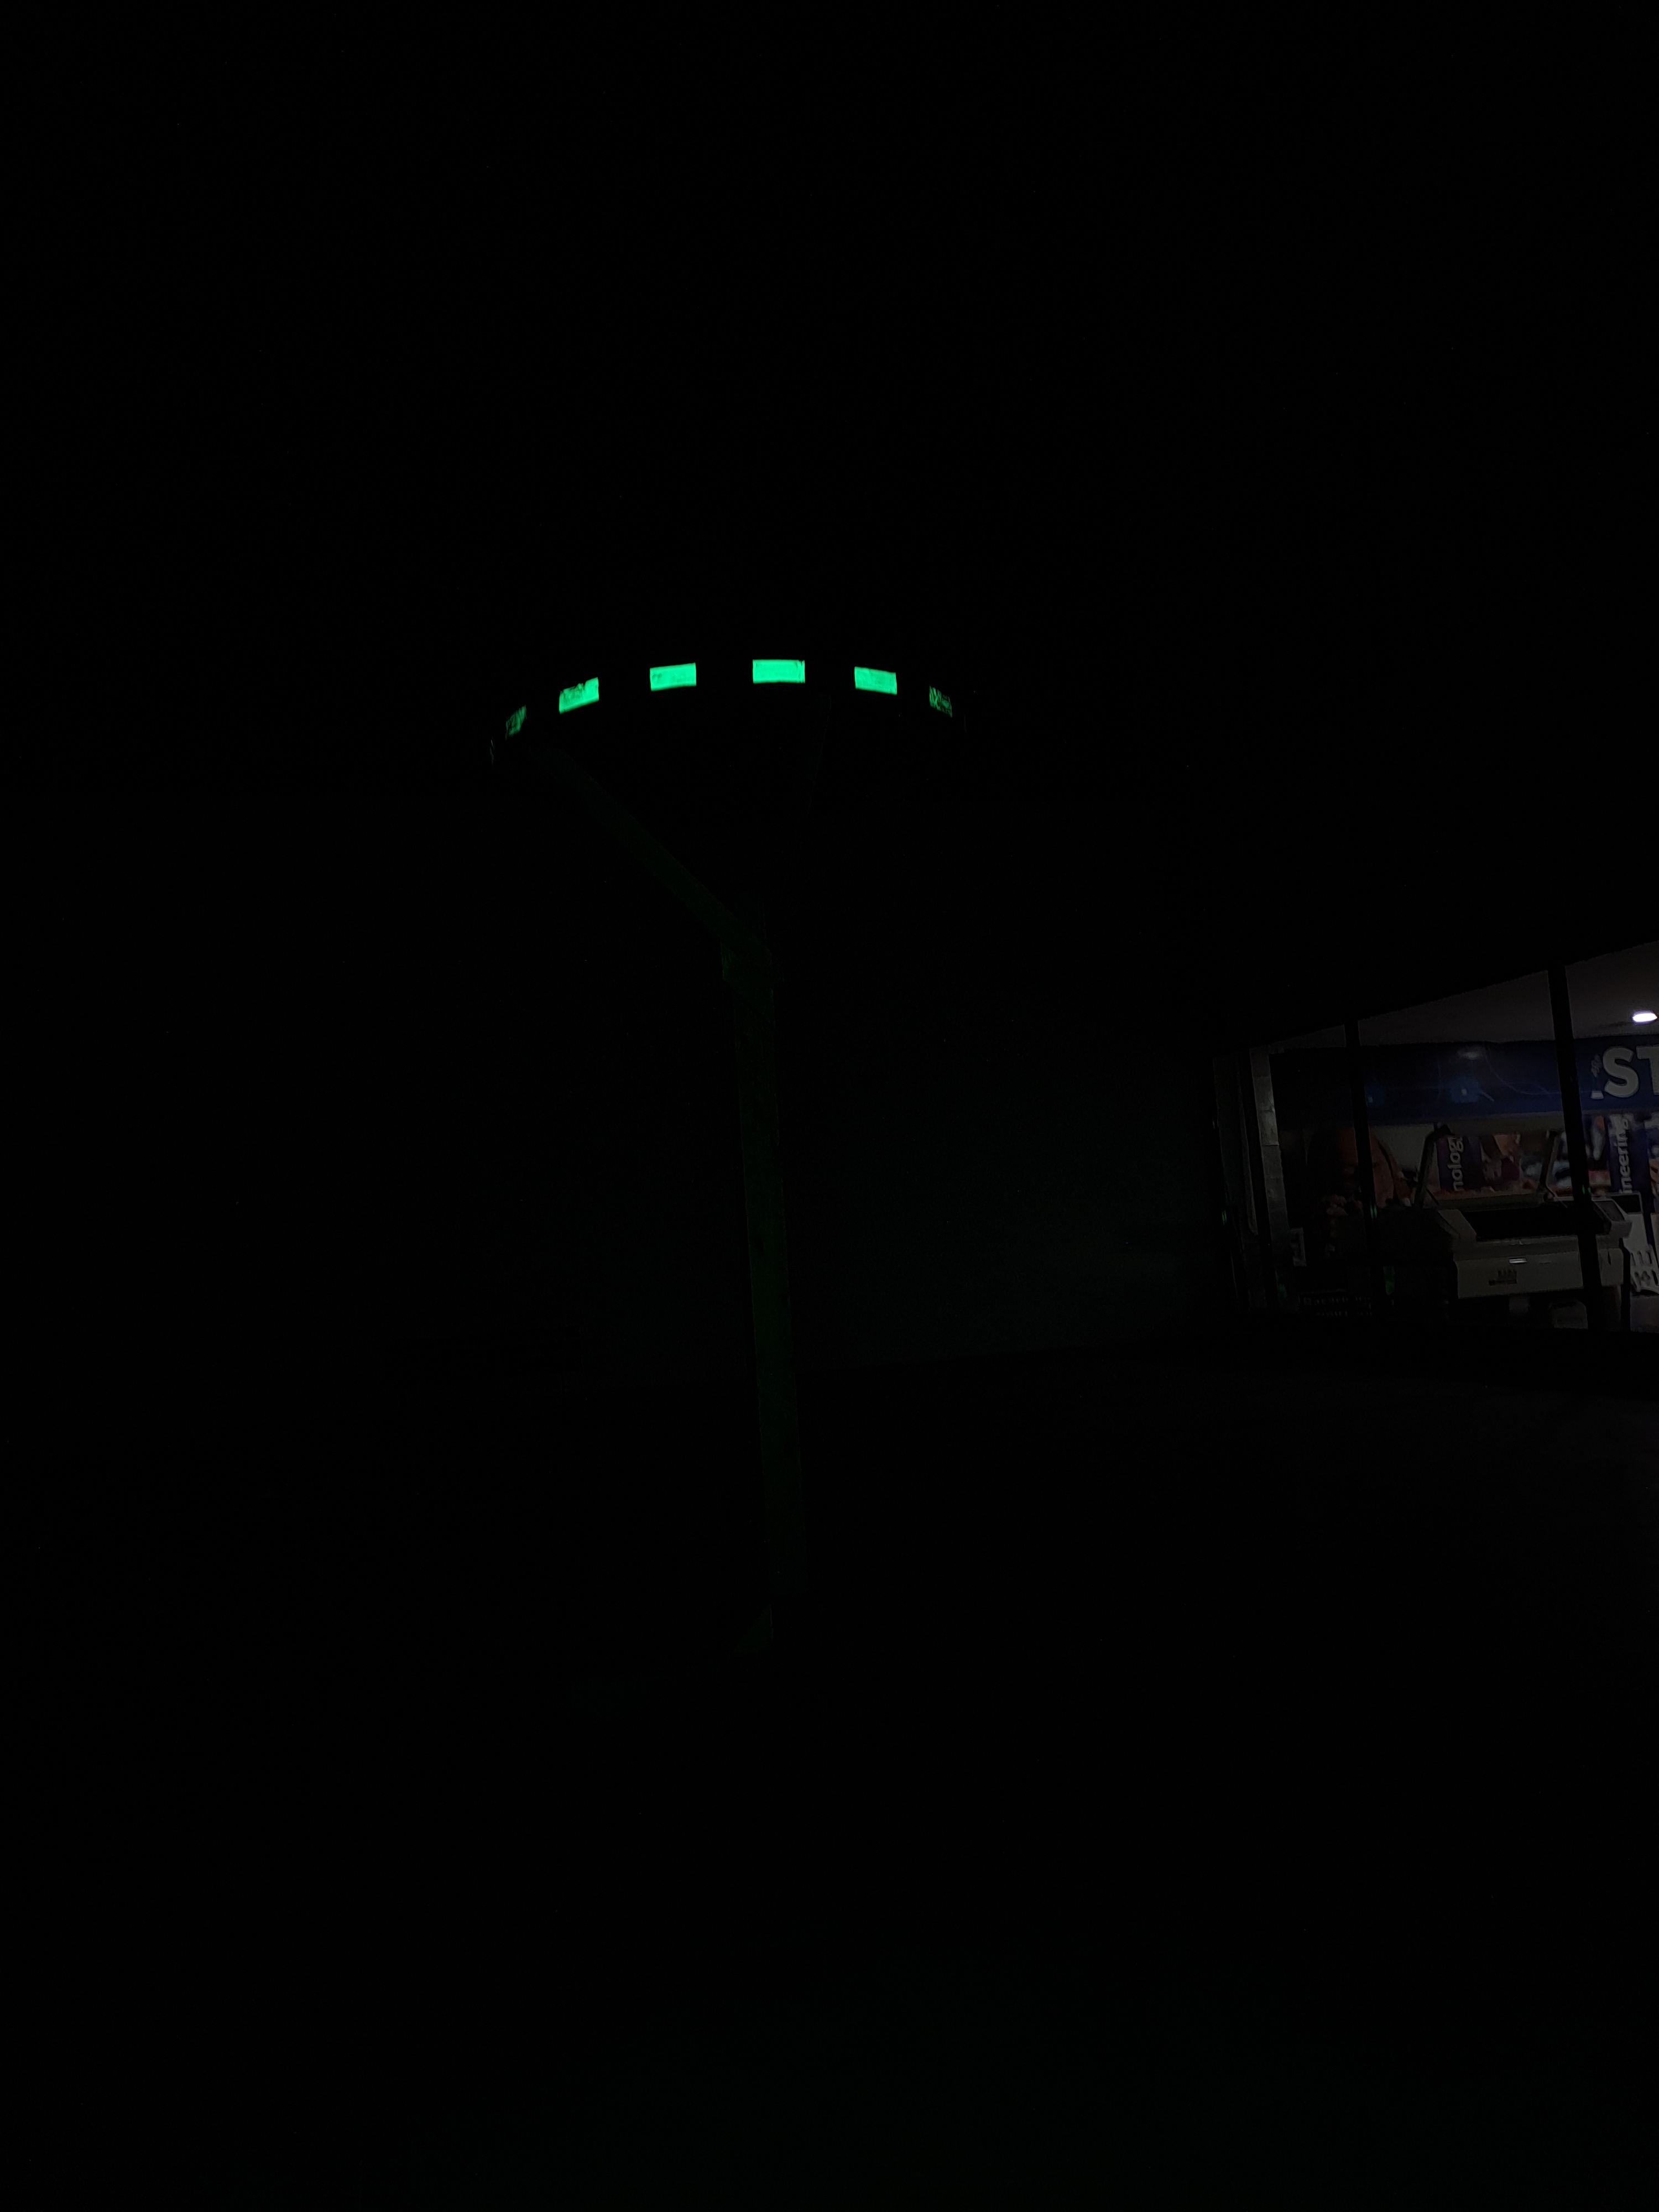hoop: (471, 641, 981, 749)
